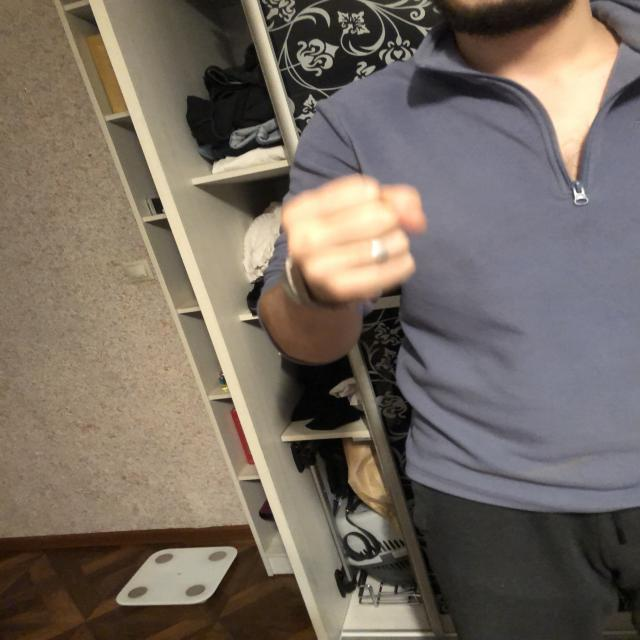rock: (285, 182, 426, 294)
